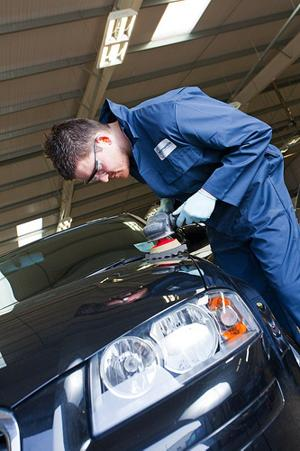person: (45, 86, 300, 359)
